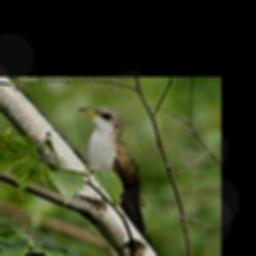Cuckoo: (78, 106, 152, 247)
